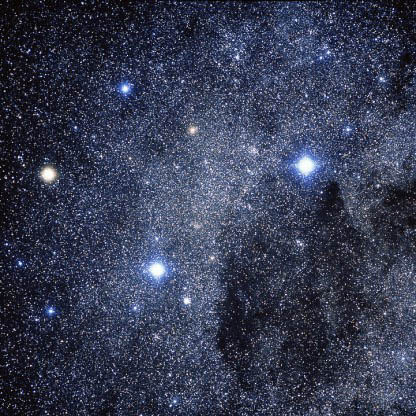Southern Cross: (285, 142, 322, 184), (33, 156, 62, 191), (139, 254, 171, 285), (115, 76, 139, 100)
